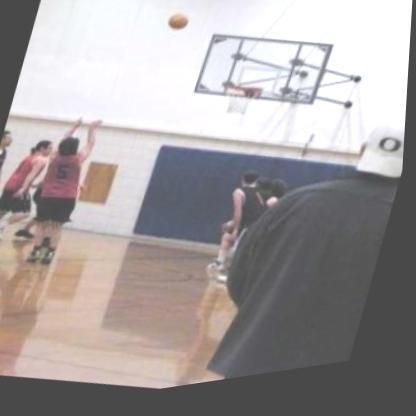basketball: (163, 12, 195, 45)
